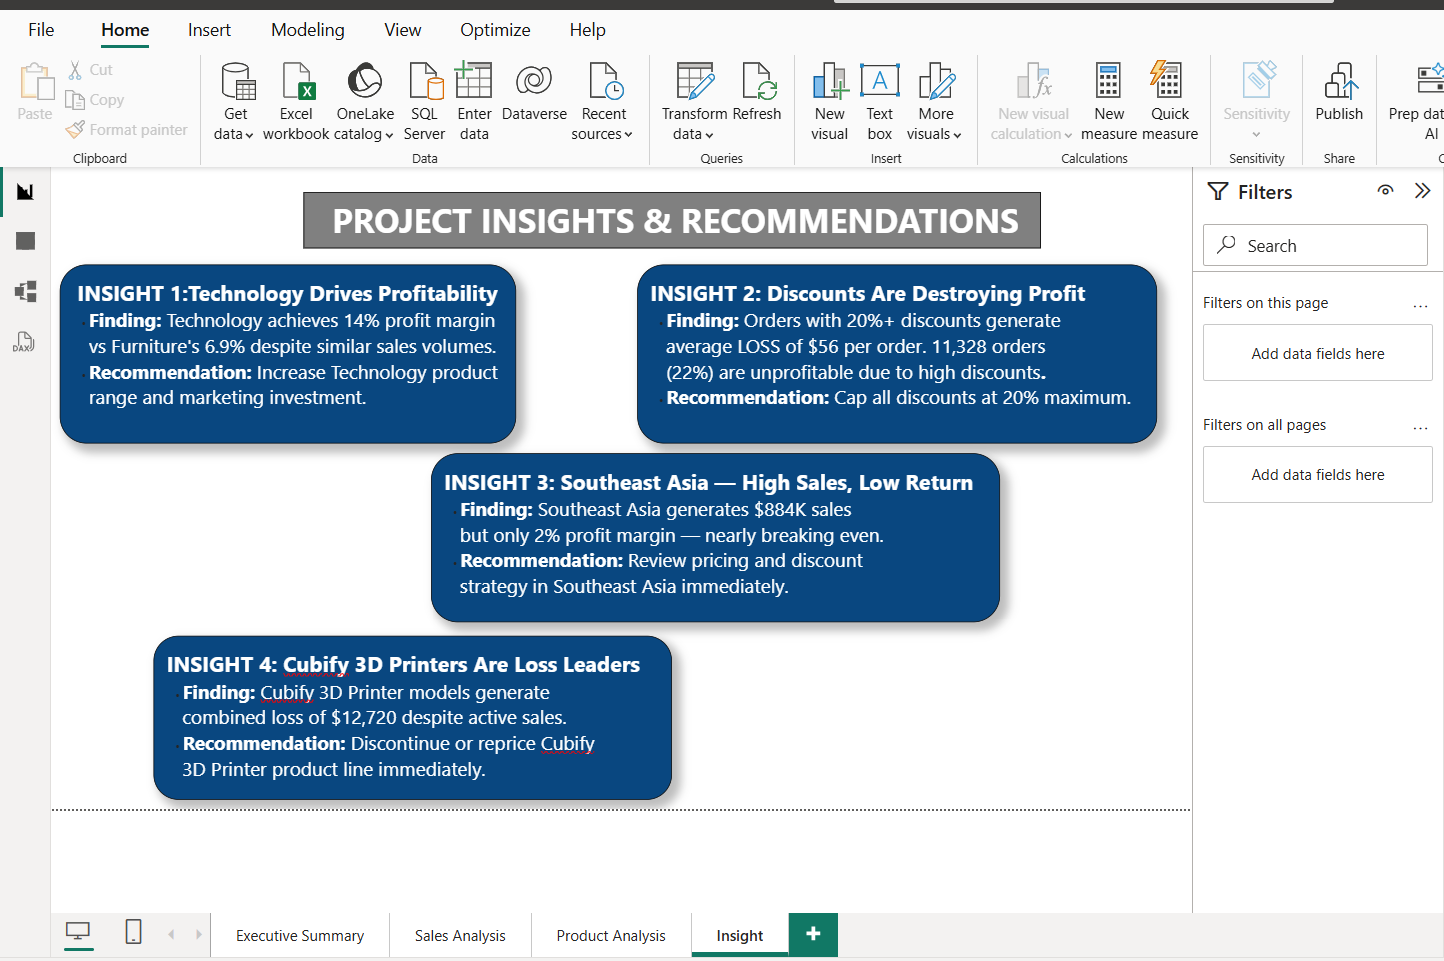

What the dashboard file says about the page in this screenshot:
{"tool":"powerbi","page":{"name":"Insight","canvas":[1280,720],"ordinal":3},"visuals":[{"type":"textbox","box":[10,0,280,280],"z":0},{"type":"textbox","box":[9.8,109.4,511.8,200.5],"z":1000},{"type":"textbox","box":[657.7,109.4,583.3,200.5],"z":2000},{"type":"textbox","box":[426.3,321.1,638,189.3],"z":2001},{"type":"textbox","box":[115,525.9,581.9,183.7],"z":2002},{"type":"textbox","box":[283.3,28,827.3,63.1],"z":2003}]}

Visuals, with their boxes on the page's 1280x720 design canvas (x1, y1, x2, y2). These are canvas units, not pixel positions in the 1444x961 screenshot, which may show the page scaled, cropped or inside an application window:
textbox: crop(10, 0, 290, 280)
textbox: crop(10, 109, 522, 310)
textbox: crop(658, 109, 1241, 310)
textbox: crop(426, 321, 1064, 510)
textbox: crop(115, 526, 697, 710)
textbox: crop(283, 28, 1111, 91)
